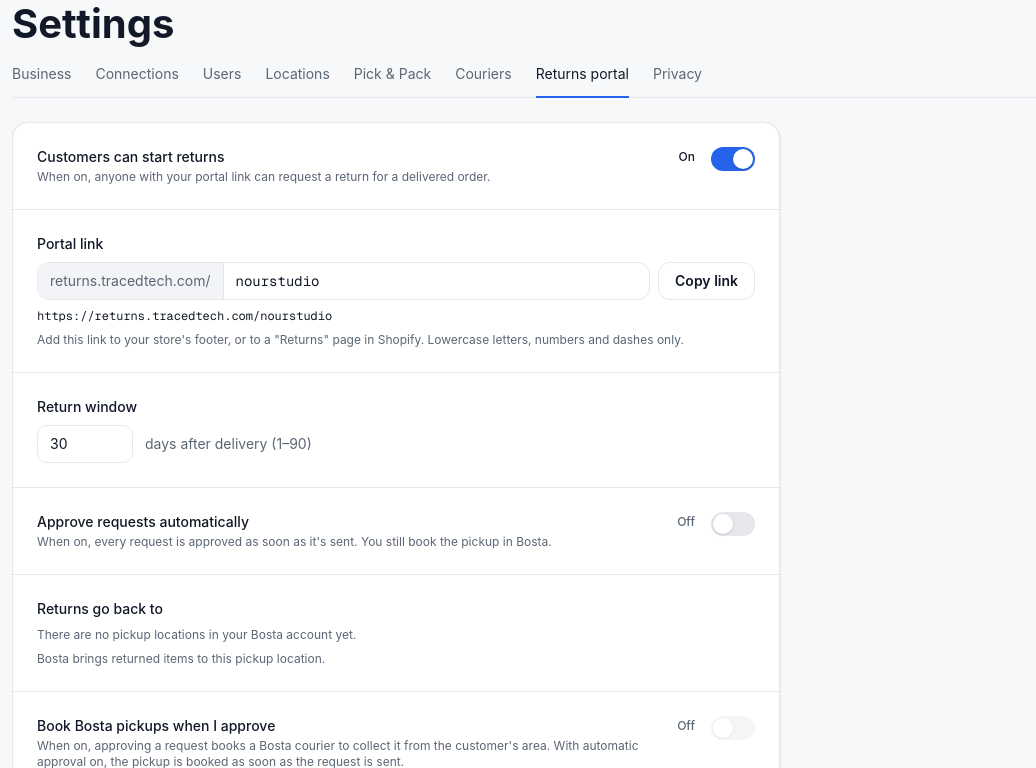
Scenario: Settings → Returns portal › a 409 on the slug reads "That address is already taken."
Replace the text in the field labelled "Portal link" with "jumi" at (436,281), box [224,263,649,299]
(page scrolled)
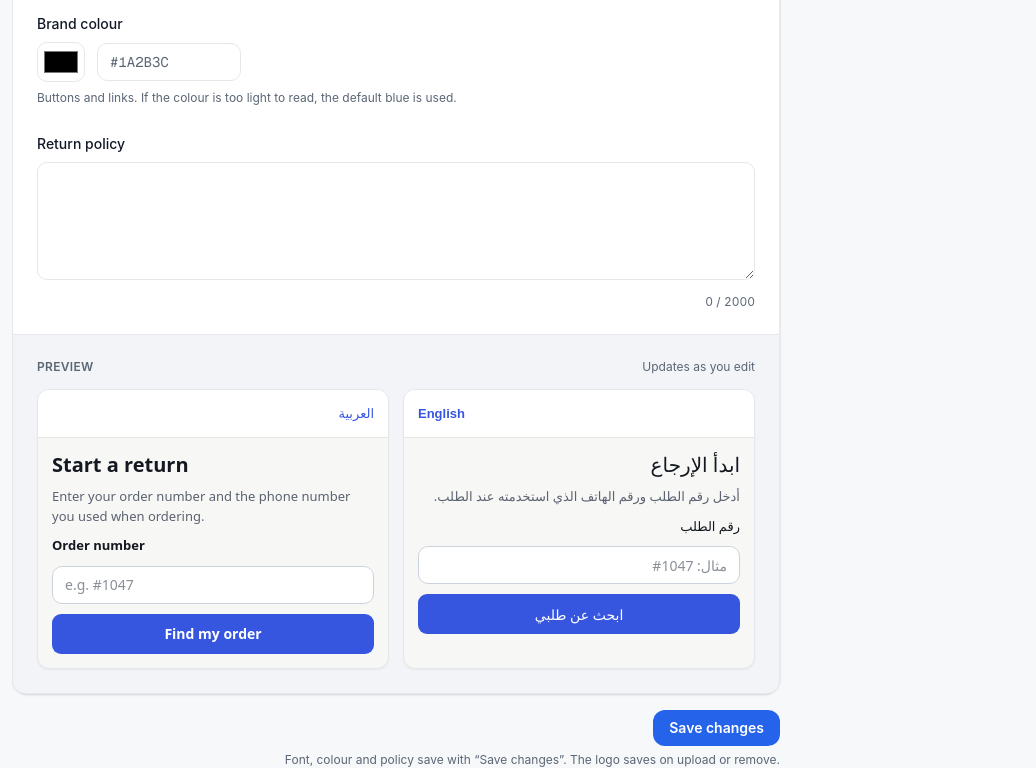
Click the button "Save changes" at (717,728), box [653,710,780,746]
(page scrolled)
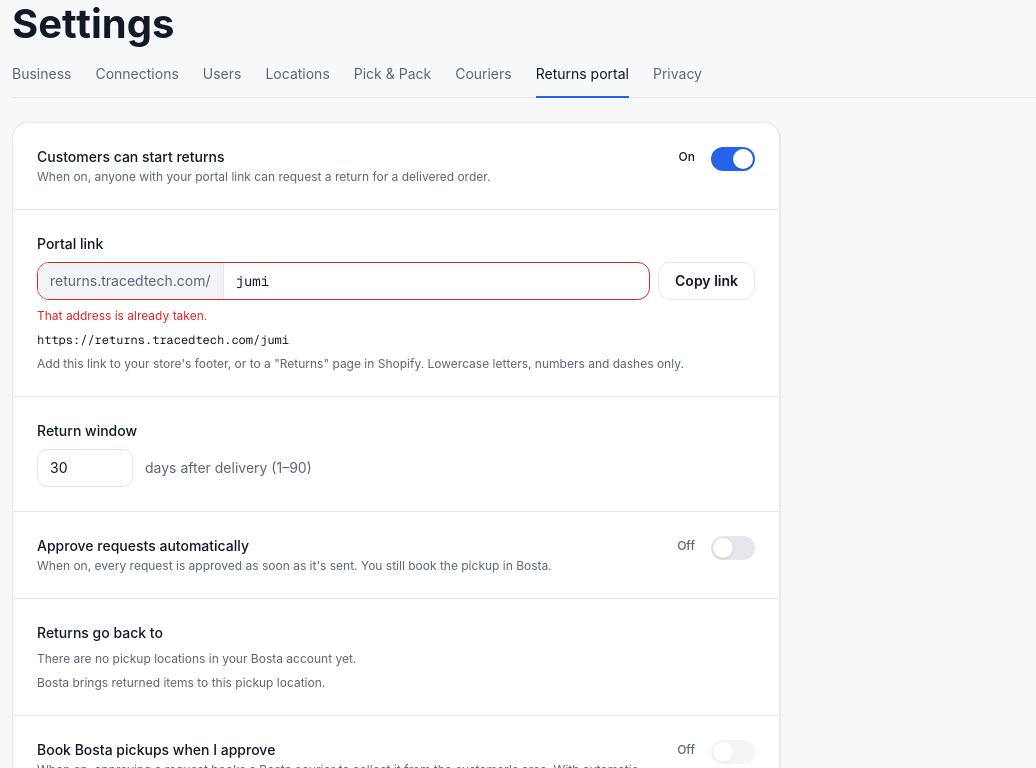
Expected: the message with test id "error-slug" reads "That address is already taken.", [37,308,207,323]
